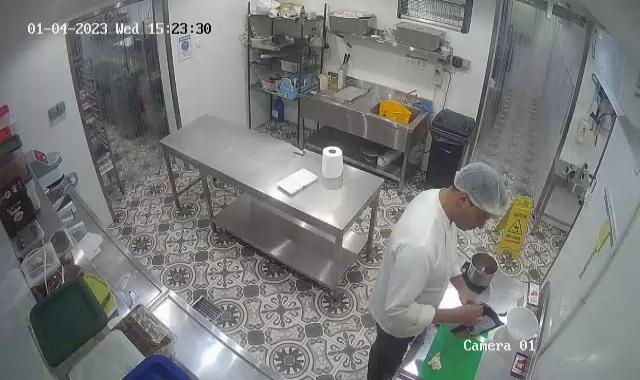hairnet: (456, 160, 512, 216)
